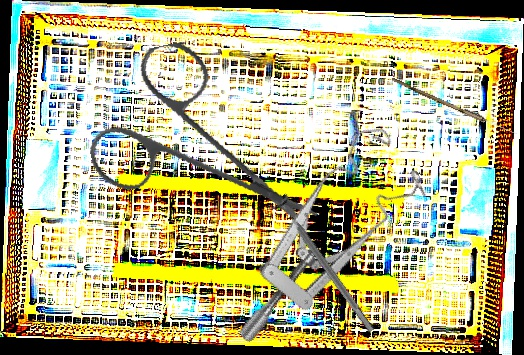Fixation Ring: (266, 192, 382, 339)
Iris Scissors: (71, 21, 320, 269)
Speculum: (183, 117, 451, 344)
Surgical Spoon: (390, 77, 519, 137)
